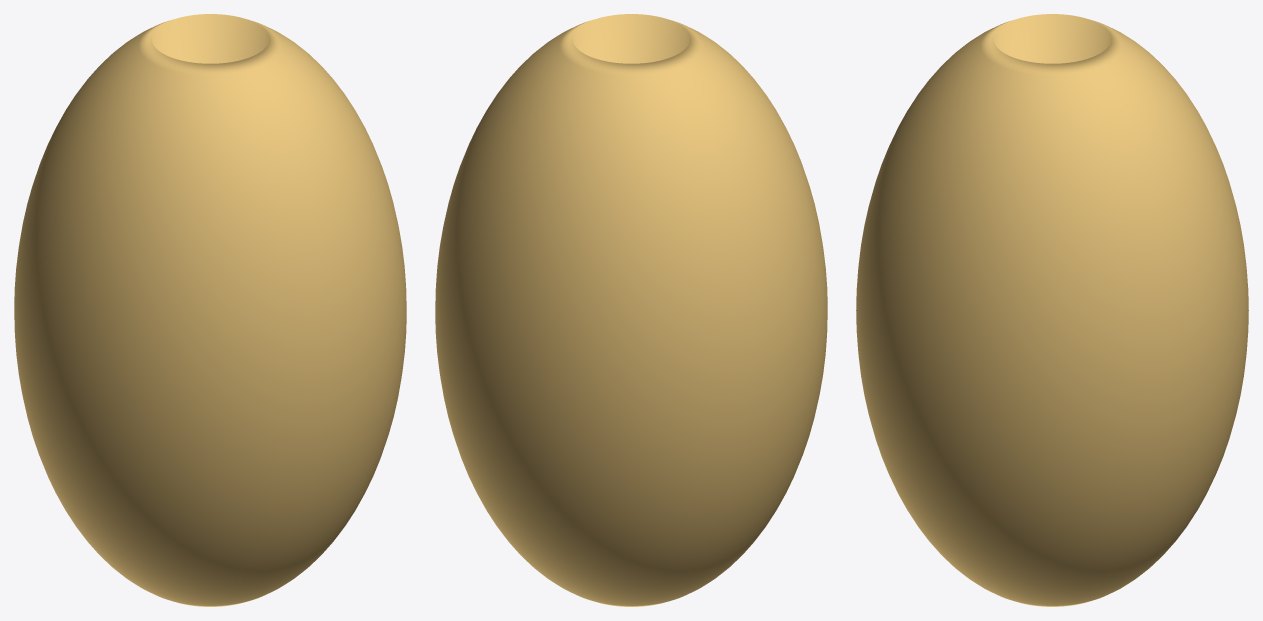
Rendered from spacer-12-gold.glb.
The picture shows the model from 3 angles, left to right: view 1: azimuth 30°, elevation 25°; view 2: azimuth 150°, elevation 25°; view 3: azimuth 270°, elevation 25°; orthographic projection.
Parts seen in each view (by area): view 1: Spacer with through bore.020; view 2: Spacer with through bore.020; view 3: Spacer with through bore.020.
Part boxes in pixels (x1,y1,x2,y2): Spacer with through bore.020: [14, 14, 406, 606]; Spacer with through bore.020: [435, 14, 827, 606]; Spacer with through bore.020: [856, 14, 1248, 606].
Bounding box in the file's own units: 0.004 × 0.00611 × 0.004.
